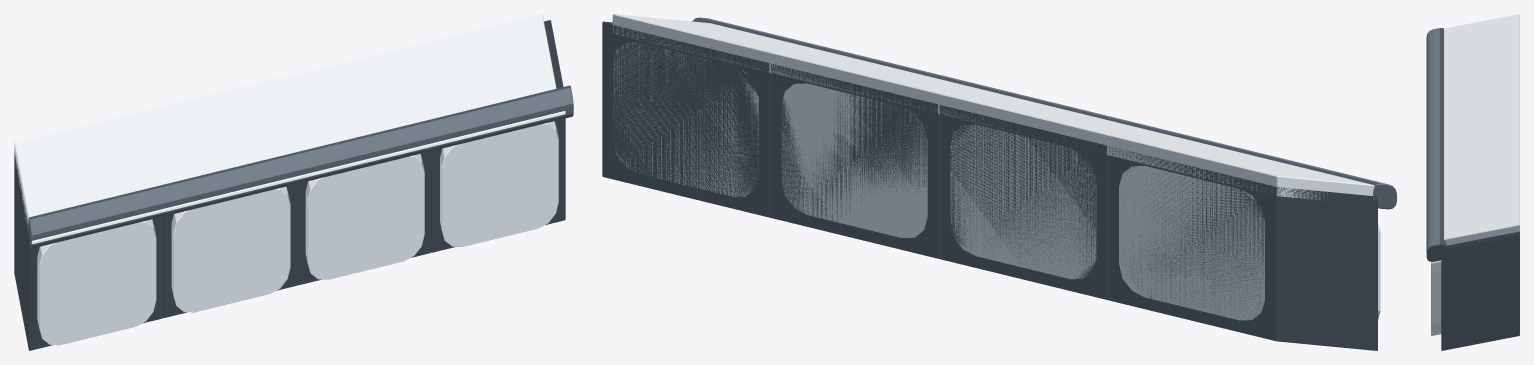
File: Terrain_TopRun4R.gltf
The picture shows the model from 3 angles, left to right: view 1: azimuth 30°, elevation 25°; view 2: azimuth 150°, elevation 25°; view 3: azimuth 270°, elevation 25°; orthographic projection. The views are drawn at different scales.
Visible parts, largest first — view 1: Terrain_TopRun4R_baked; view 2: Terrain_TopRun4R_baked; view 3: Terrain_TopRun4R_baked.
Boxes of the visible parts, box(x1,y1,x2,y2) form: Terrain_TopRun4R_baked: box(14, 14, 573, 350); Terrain_TopRun4R_baked: box(602, 14, 1397, 350); Terrain_TopRun4R_baked: box(1426, 14, 1519, 350).
Size of the model in its own units: 4.29 by 1.18 by 0.74.
